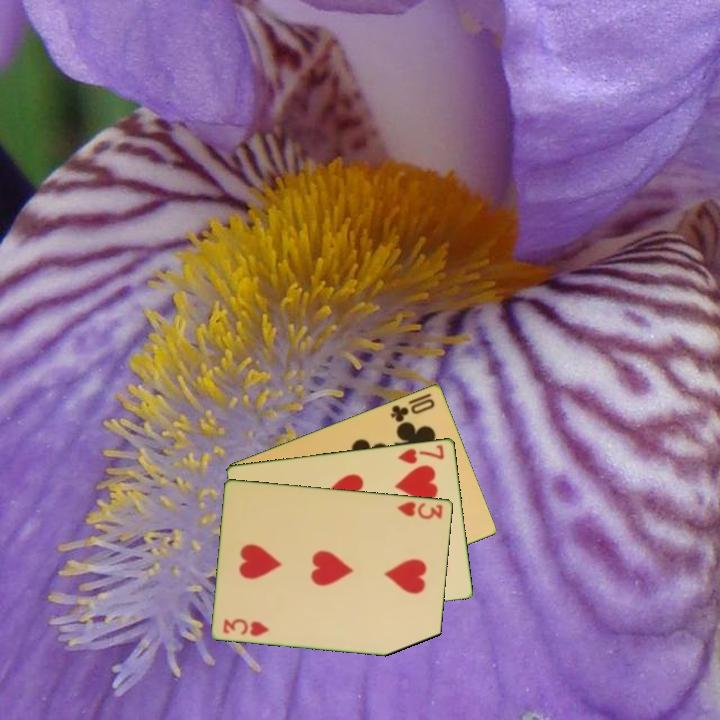10c: (387, 395, 438, 425)
3h: (394, 498, 446, 522), (220, 615, 272, 639)
7h: (395, 441, 447, 466)
